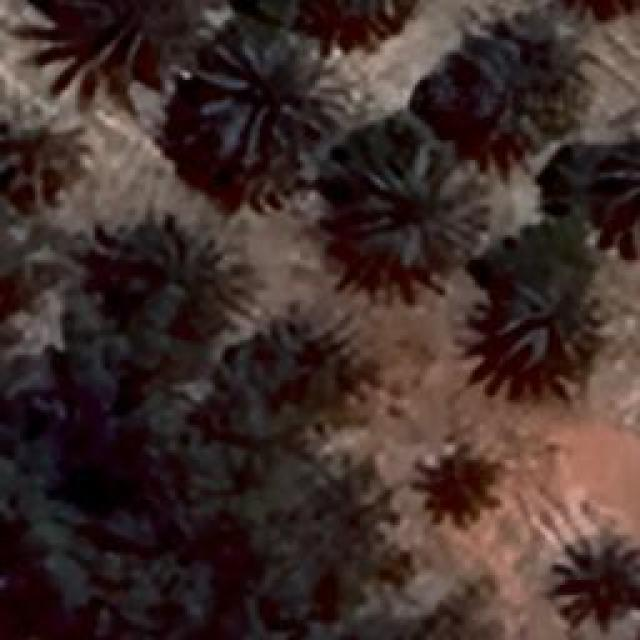PalmTree: (68, 61, 606, 191), (192, 38, 358, 160), (355, 142, 490, 270), (465, 23, 583, 146), (49, 0, 189, 98), (121, 230, 229, 335), (266, 324, 372, 426), (495, 270, 600, 368), (142, 20, 346, 61), (555, 542, 640, 620), (0, 130, 80, 205), (422, 441, 492, 514), (544, 0, 640, 18)
